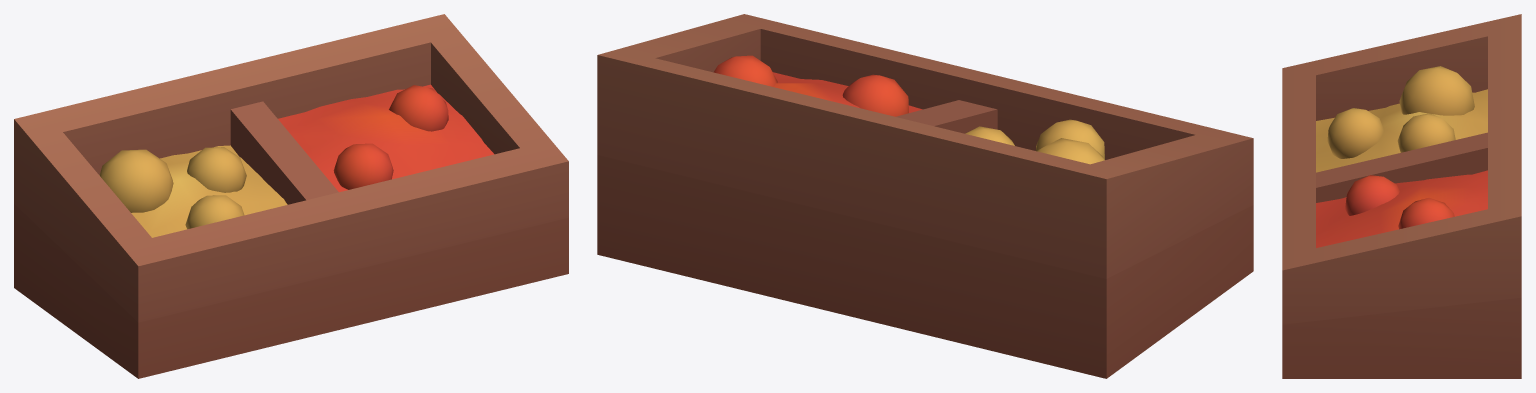
The model's file is crate_long_A.gltf.
3 views of the same model, side by side, from view 1: azimuth 30°, elevation 25°; view 2: azimuth 150°, elevation 25°; view 3: azimuth 270°, elevation 25° (orthographic). The views are drawn at different scales.
Visible parts, largest first — view 1: crate_long_A; view 2: crate_long_A; view 3: crate_long_A.
Part boxes in pixels (left/top/right/bottom): crate_long_A: left=14, top=14, right=568, bottom=378; crate_long_A: left=597, top=14, right=1253, bottom=378; crate_long_A: left=1282, top=14, right=1521, bottom=378.
Bounding box in the file's own units: 0.4 × 0.15 × 0.2.
Materials: 1 (1 with a texture image).
